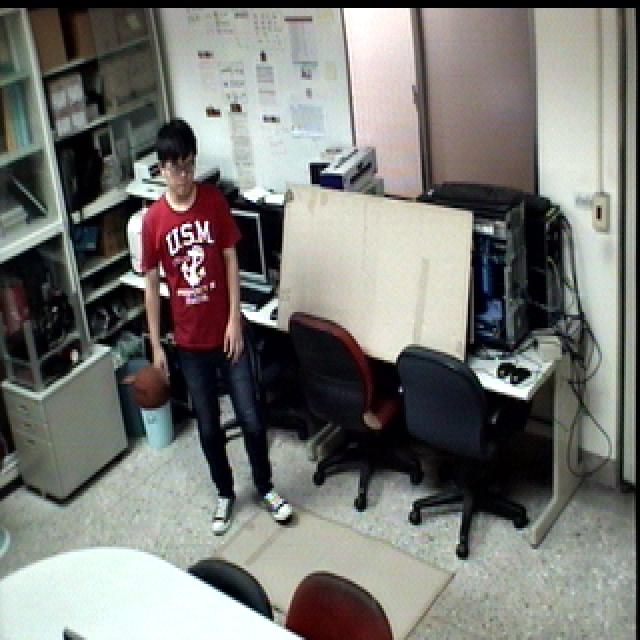stand: (128, 112, 299, 543)
